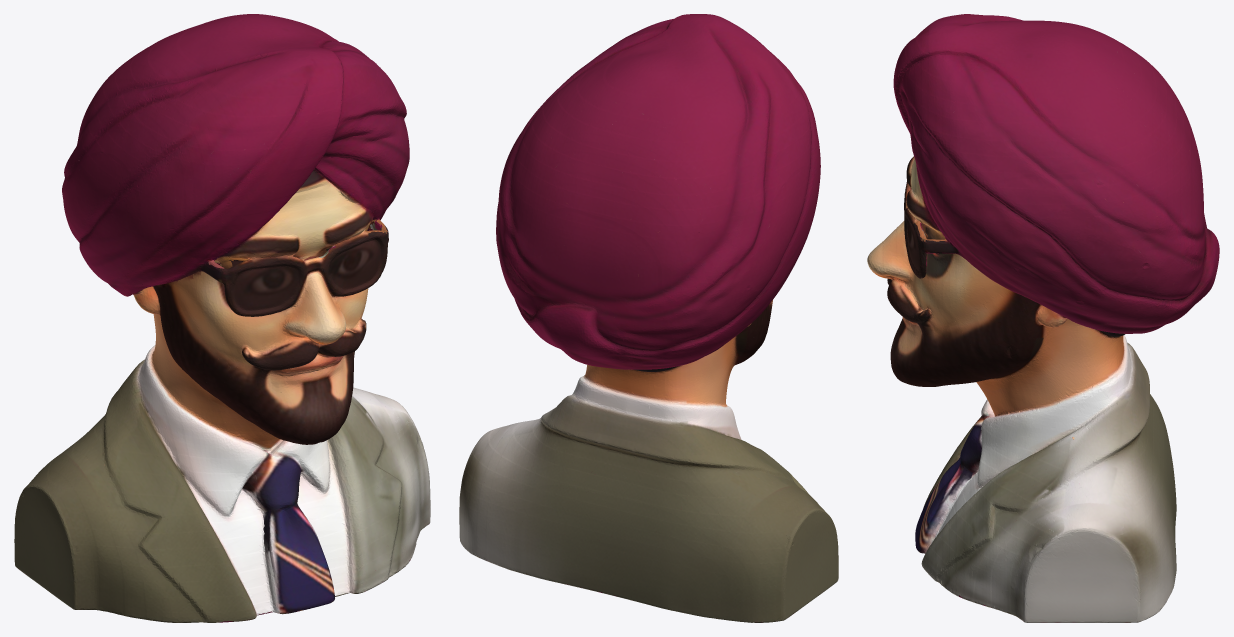
The model's file is head_hi1_cm.glb.
3 renders of one model, left to right at view 1: azimuth 30°, elevation 25°; view 2: azimuth 150°, elevation 25°; view 3: azimuth 270°, elevation 25°, orthographic. The views are drawn at different scales.
Visible parts, largest first — view 1: geometry_0; view 2: geometry_0; view 3: geometry_0.
Boxes of the visible parts, x1,y1,x2,y2 form: geometry_0: (14, 14, 430, 622); geometry_0: (459, 14, 838, 622); geometry_0: (867, 14, 1219, 622).
Size of the model in its own units: 1.38 by 1.99 by 1.24.
1 material, 1 textured.
